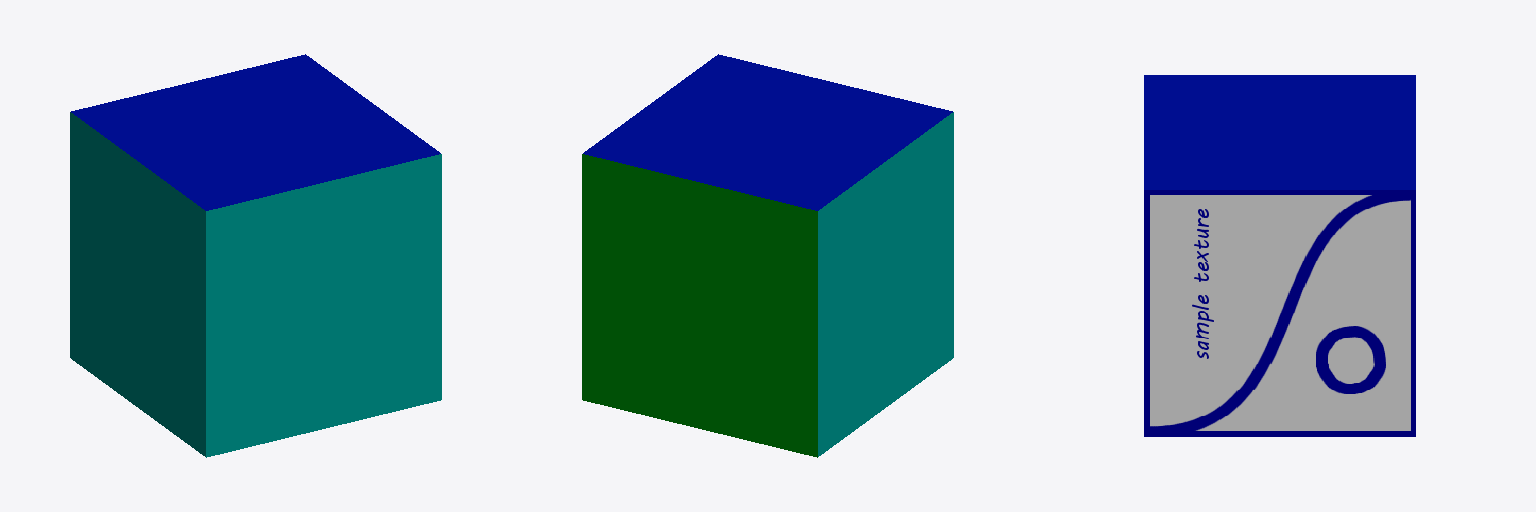
The picture shows the model from 3 angles: view 1: azimuth 30°, elevation 25°; view 2: azimuth 150°, elevation 25°; view 3: azimuth 270°, elevation 25°; orthographic projection.
Parts seen in each view (by area): view 1: Cube; view 2: Cube; view 3: Cube.
Part boxes in pixels (x1,y1,x2,y2): Cube: (70,54,441,457); Cube: (582,54,953,457); Cube: (1144,75,1415,436).
Size of the model in its own units: 2 by 2 by 2.
Materials: 4 (1 with a texture image).